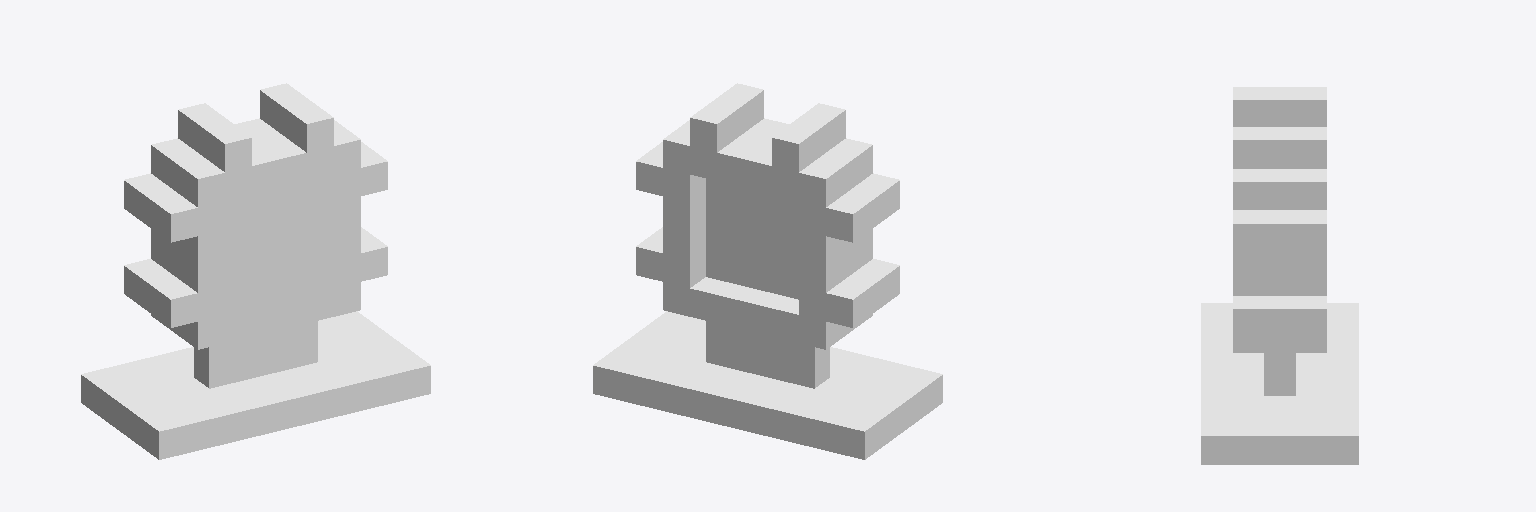
The model's file is Game_new_monitor2.obj.
The picture shows the model from 3 angles: view 1: azimuth 30°, elevation 25°; view 2: azimuth 150°, elevation 25°; view 3: azimuth 270°, elevation 25°; orthographic projection.
Parts seen in each view (by area): view 1: new_monitor2; view 2: new_monitor2; view 3: new_monitor2.
Boxes of the visible parts, box(x1,y1,x2,y2) form: new_monitor2: box(81, 83, 430, 459); new_monitor2: box(593, 83, 942, 459); new_monitor2: box(1201, 87, 1358, 464).
Size of the model in its own units: 1 by 1 by 0.5.